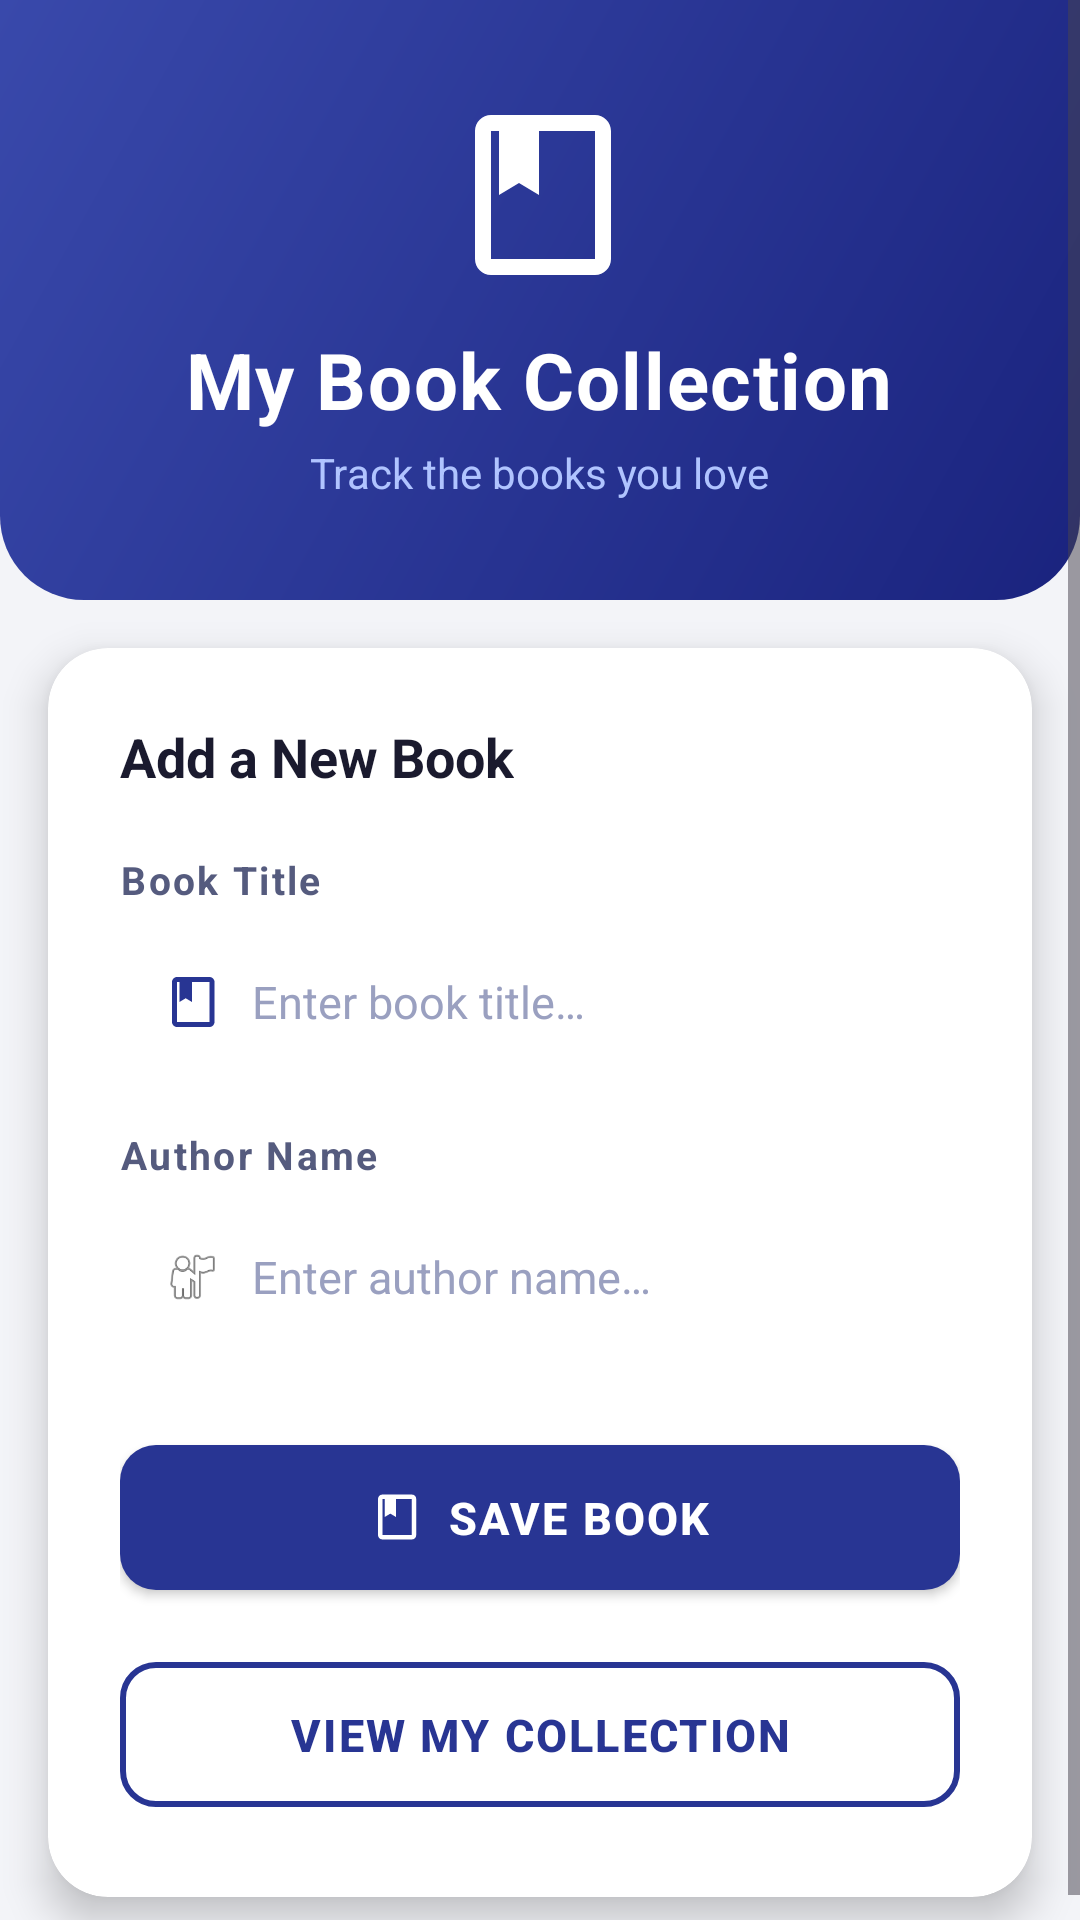

Icons on this 1080x1920 Android screen, each with the point to tap as [x,y]:
Book cover icon: [543,195]
